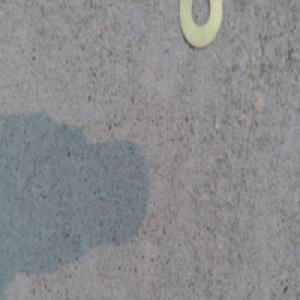Washer: (177, 0, 222, 53)
